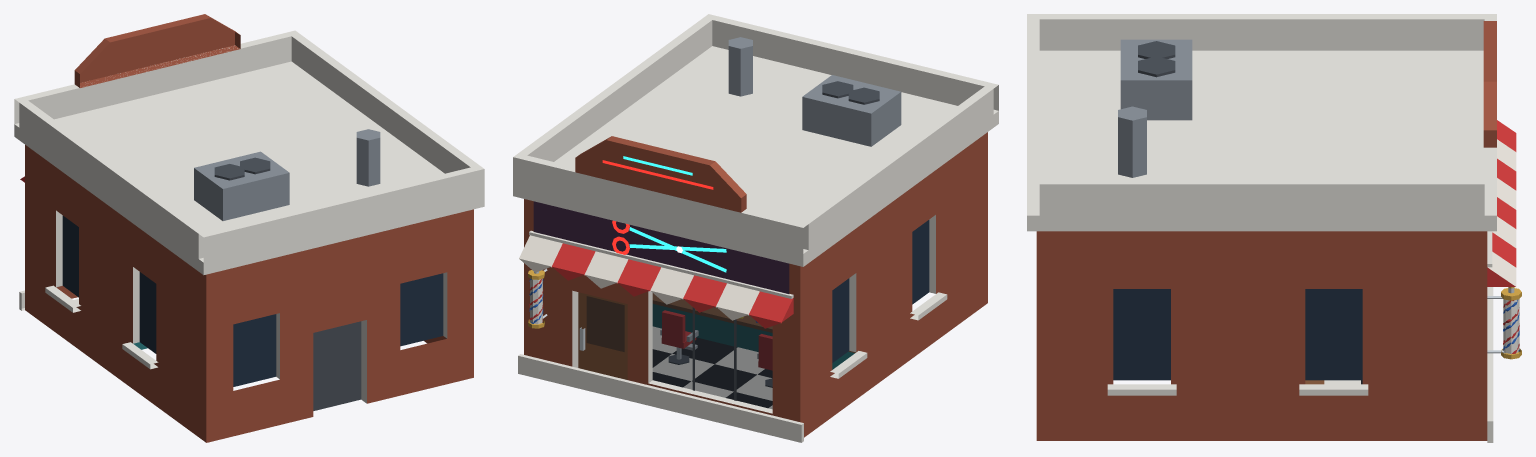
File: barber.glb
3 views of the same model, side by side, from view 1: azimuth 30°, elevation 25°; view 2: azimuth 150°, elevation 25°; view 3: azimuth 270°, elevation 25° (orthographic). The views are drawn at different scales.
Visible parts, largest first — view 1: Body; view 2: Body, BarberPole; view 3: Body, BarberPole.
Boxes of the visible parts, x1,y1,x2,y2 form: Body: (14,14,484,442); Body: (513,14,998,442); BarberPole: (528,270,544,328); Body: (1027,14,1516,442); BarberPole: (1501,287,1521,359).
Size of what is drawn, in the model's own units: 8.5 by 7.1 by 10.32.
